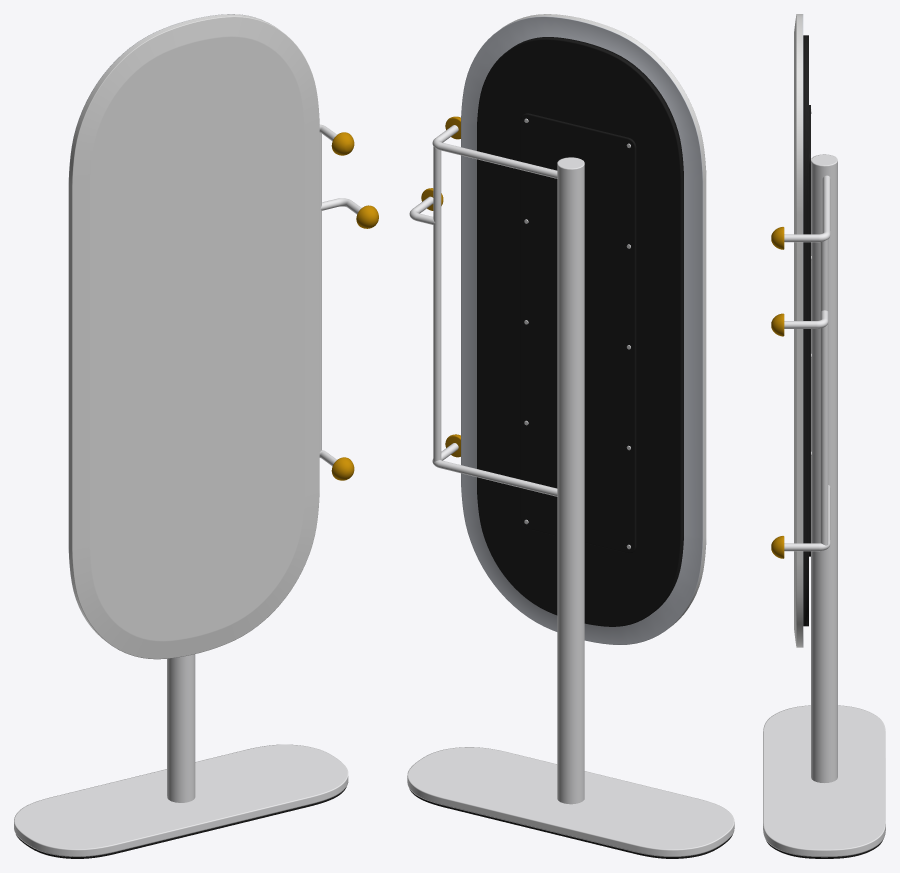
3 renders of one model, left to right at view 1: azimuth 30°, elevation 25°; view 2: azimuth 150°, elevation 25°; view 3: azimuth 270°, elevation 25°, orthographic. The views are drawn at different scales.
Visible parts, largest first — view 1: mirror17825; view 2: mirror17825; view 3: mirror17825.
Boxes of the visible parts, x1,y1,x2,y2 form: mirror17825: (14, 14, 378, 858); mirror17825: (407, 14, 734, 858); mirror17825: (763, 14, 885, 858).
Bounding box in the file's own units: 0.7398 × 1.7 × 0.25.
2 materials, 1 textured.
